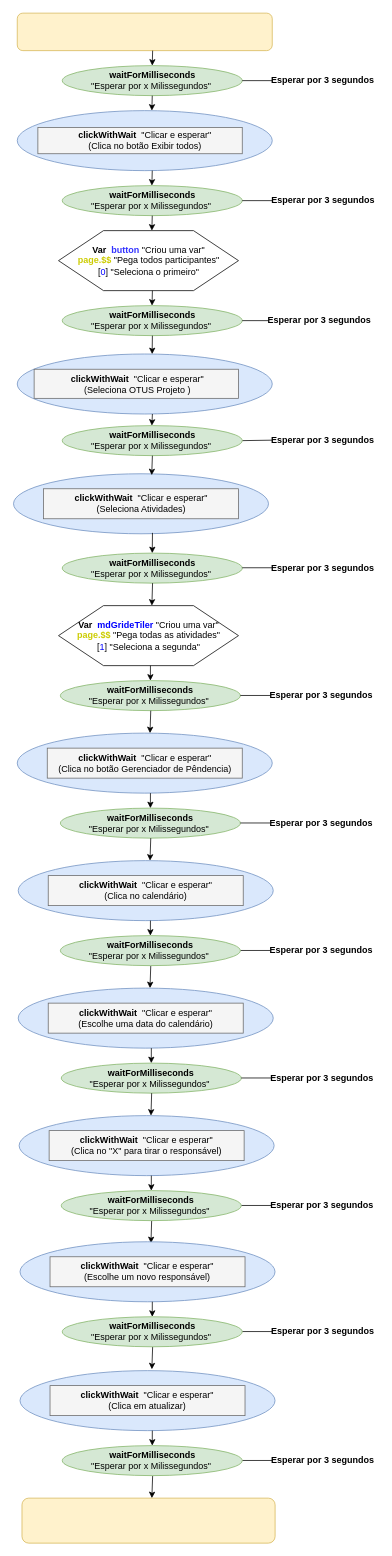
The diagram is 392 pixels wide and 1556 high, and some of its shapes have lost their labels. Each missing label, with the centre of its shape:
ABRE PÁGINA OTUS waitForMilliseconds "Esperar por milisegundos": [144,31]
FECHA PÁGINA OTUS: [148,1520]
